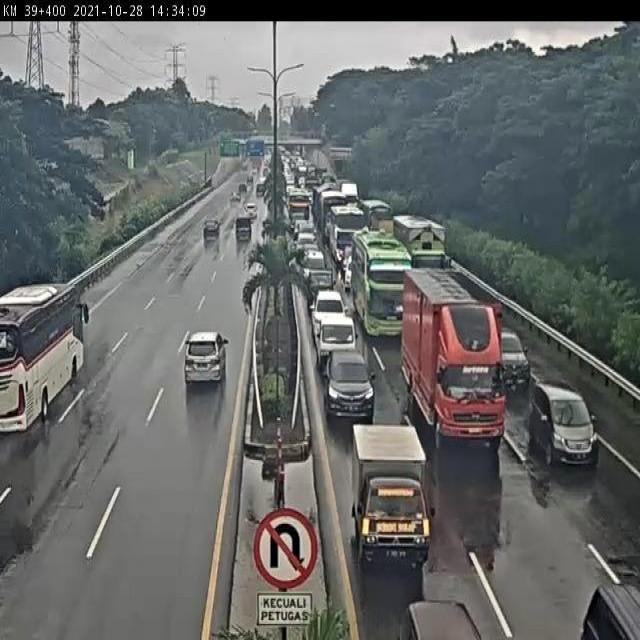big bus: (0, 281, 89, 432), (350, 229, 411, 335), (330, 208, 366, 265), (286, 190, 312, 230)
big truck: (394, 269, 505, 443), (392, 216, 453, 292), (319, 194, 345, 238)
car: (351, 416, 435, 568), (519, 376, 593, 461), (324, 347, 378, 422), (487, 322, 532, 382), (184, 333, 230, 387), (314, 314, 357, 366), (309, 292, 348, 331), (303, 269, 336, 304), (233, 215, 255, 244), (202, 219, 223, 244), (303, 250, 328, 270), (342, 252, 357, 285), (297, 234, 317, 258), (293, 218, 316, 238)
